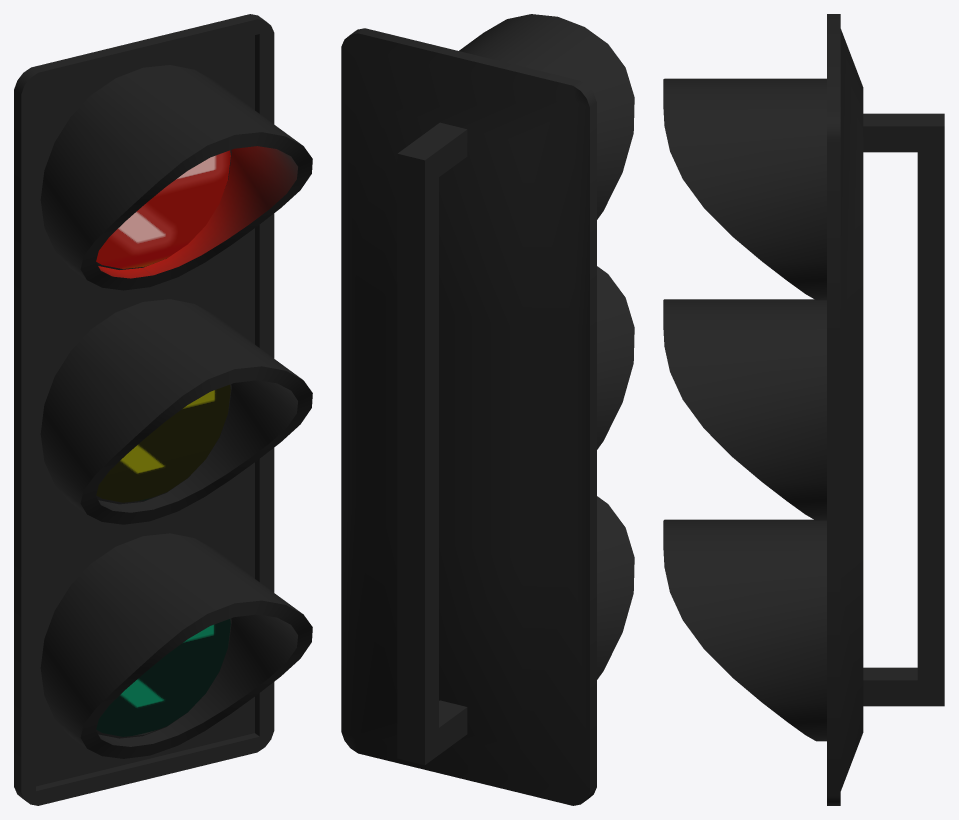
The model's file is sm_trli_001_02.FBX.
3 views of the same model, side by side, from view 1: azimuth 30°, elevation 25°; view 2: azimuth 150°, elevation 25°; view 3: azimuth 270°, elevation 25° (orthographic). The views are drawn at different scales.
Visible parts, largest first — view 1: sm_trli_001_02; view 2: sm_trli_001_02; view 3: sm_trli_001_02.
Boxes of the visible parts, x1,y1,x2,y2 form: sm_trli_001_02: (14, 14, 312, 805); sm_trli_001_02: (341, 14, 634, 805); sm_trli_001_02: (663, 14, 944, 805).
Size of the model in its own units: 0.4809 by 1.33 by 0.4919.
